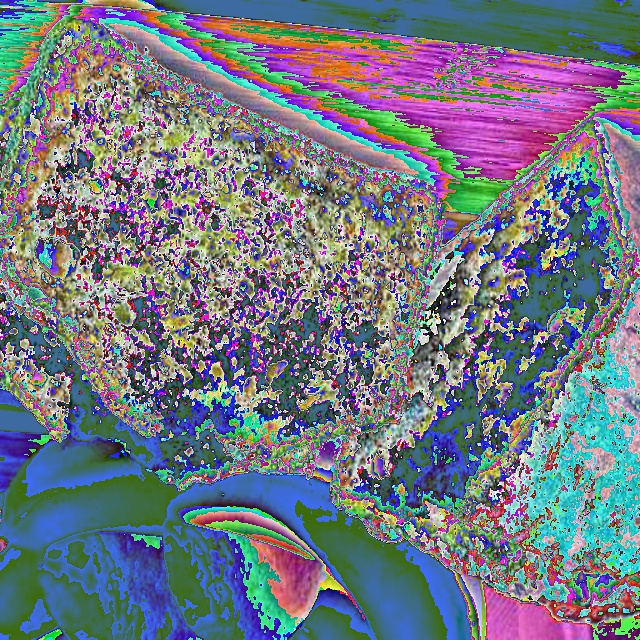background: (0, 19, 640, 639)
